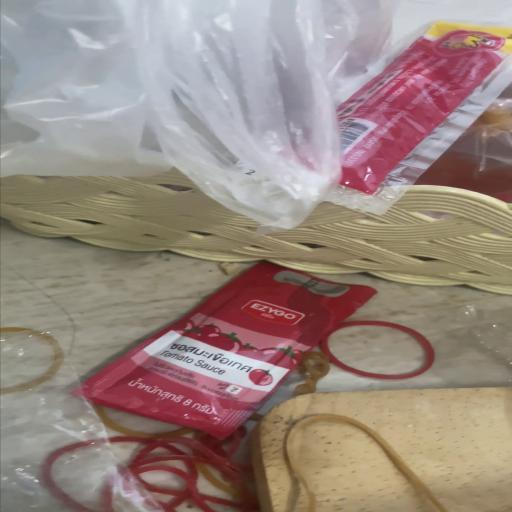brand_golden_good: (253, 387, 512, 512)
